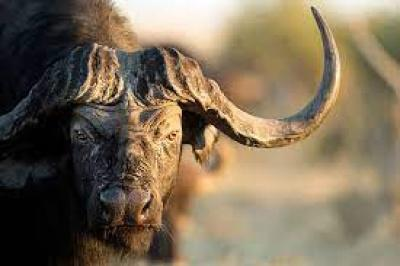buffalo: (0, 0, 337, 266)
